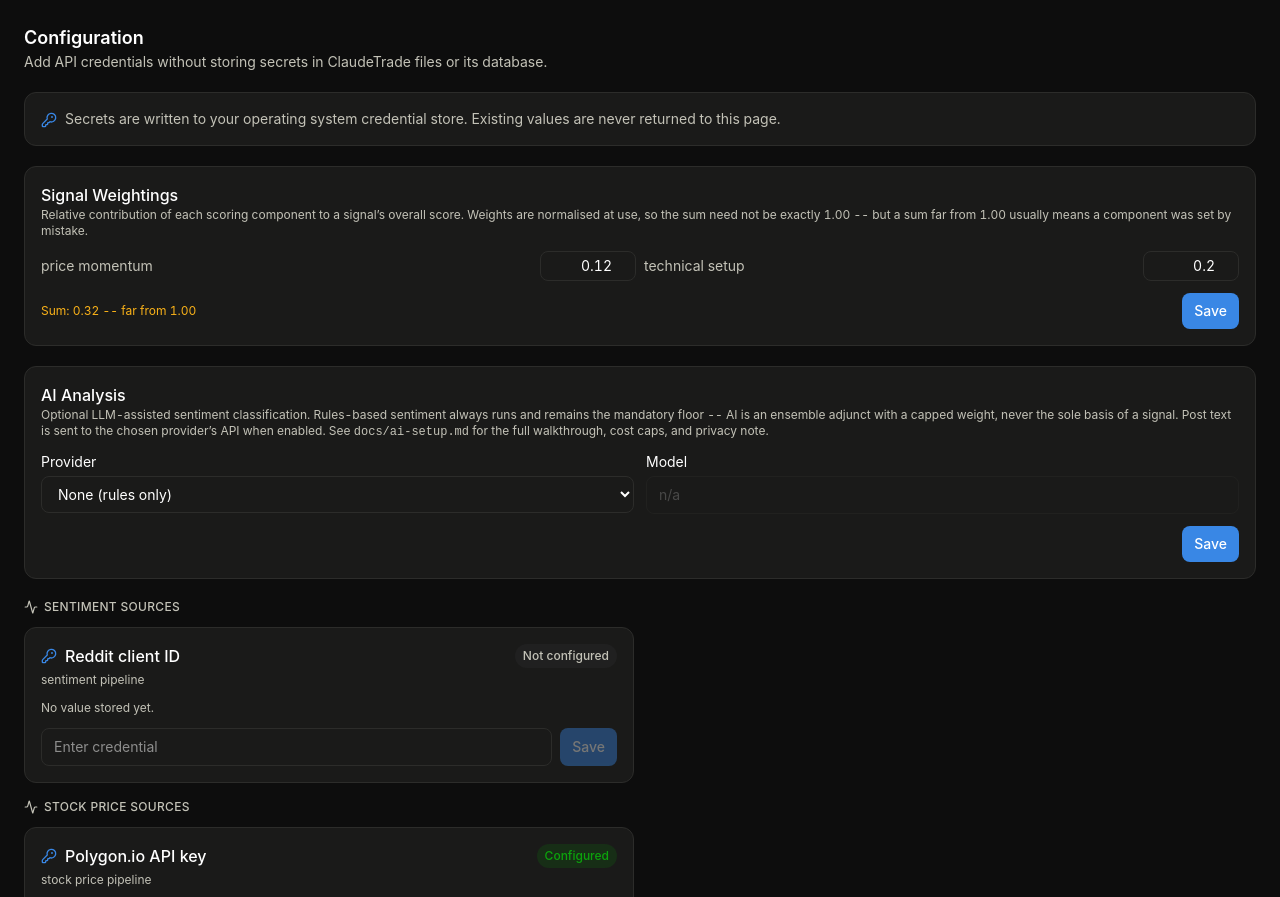
Test: Configuration screen › renders the Signal Weightings section first and saves an edited weight
Replace the text in the number field labelled "technical setup" with "0.5" at point(1191, 266), box [1143,251,1239,281]
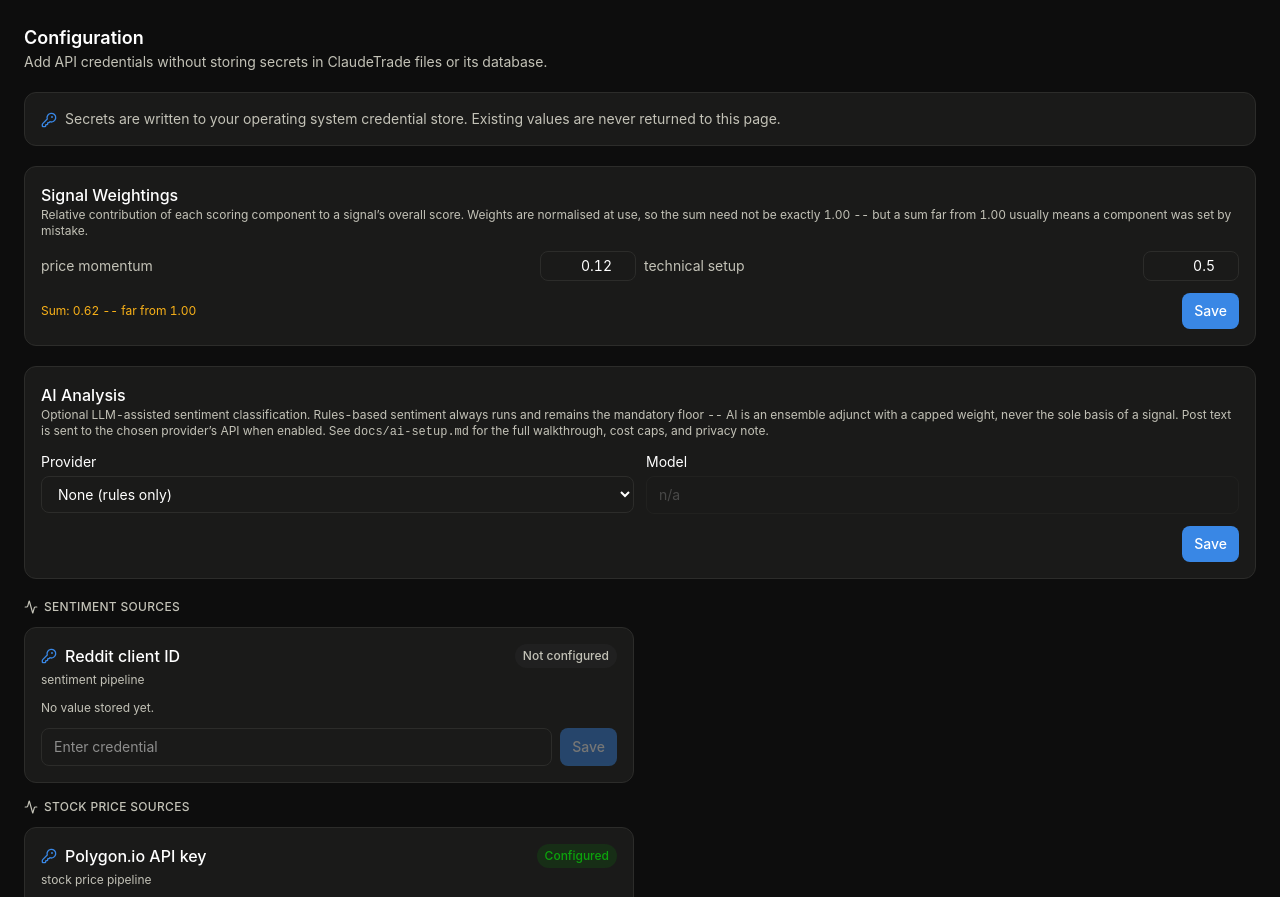
Click the button "Save" in the row of "-- far from 1.00" at point(1211, 311), box [1182,293,1239,329]
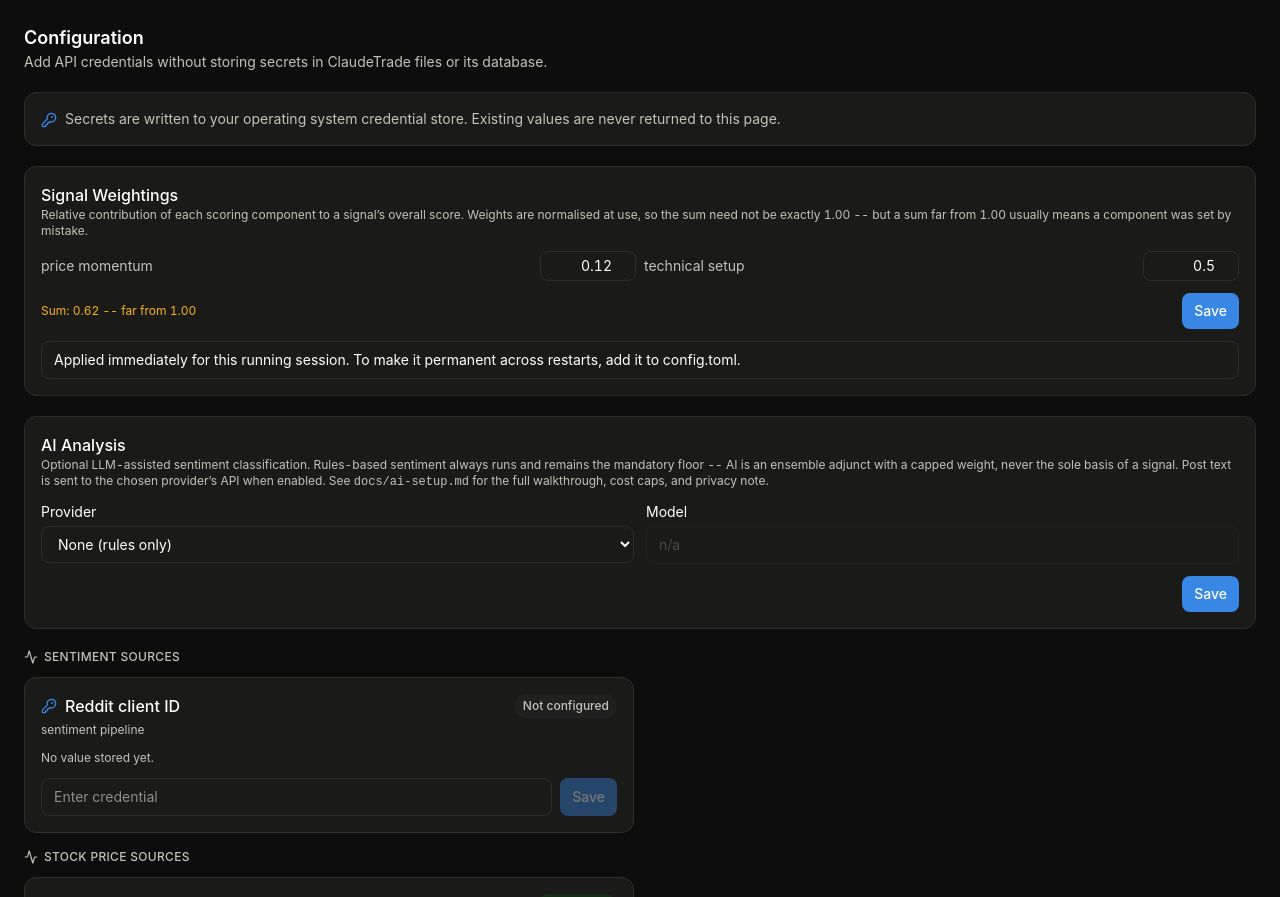
Now the text "Applied immediately" is shown, box [54,351,741,368]
